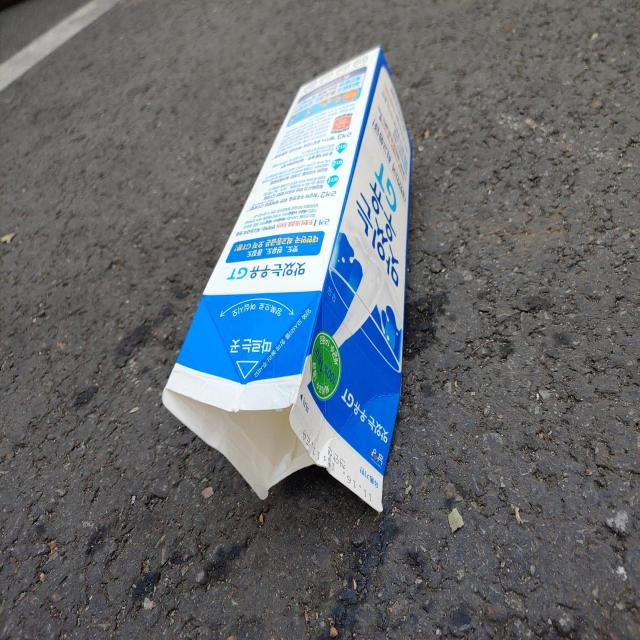paperpack: (162, 47, 412, 511)
